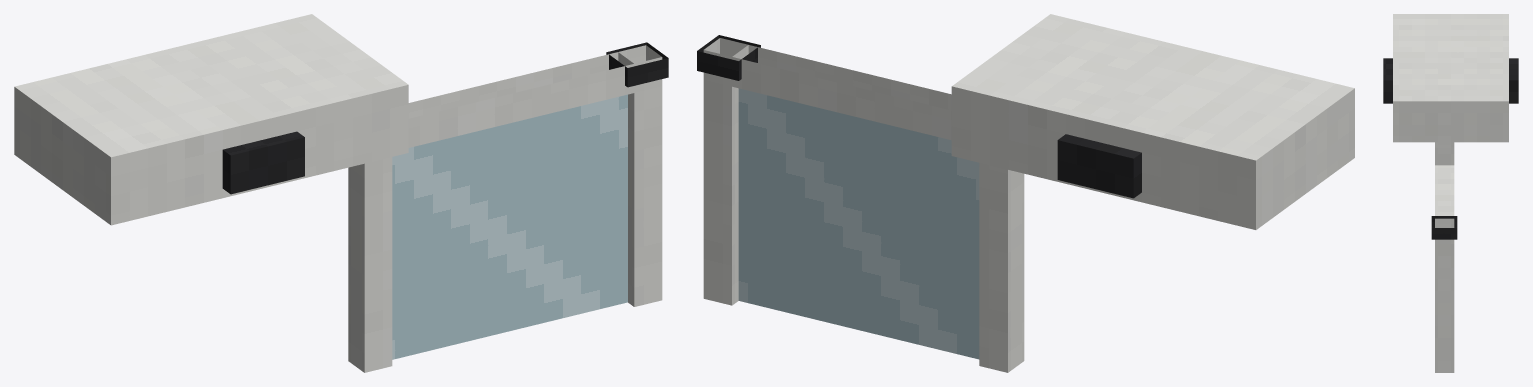
The model's file is auto_door_tele_slider_white_c0_upper_right_open.obj.
3 views of the same model, side by side, from view 1: azimuth 30°, elevation 25°; view 2: azimuth 150°, elevation 25°; view 3: azimuth 270°, elevation 25° (orthographic). The views are drawn at different scales.
Visible parts, largest first — view 1: auto_door_tele_slider_white_c0_upper_right_open; view 2: auto_door_tele_slider_white_c0_upper_right_open; view 3: auto_door_tele_slider_white_c0_upper_right_open.
Boxes of the visible parts, x1=… form: auto_door_tele_slider_white_c0_upper_right_open: x1=14, y1=14, x2=668, y2=372; auto_door_tele_slider_white_c0_upper_right_open: x1=697, y1=14, x2=1354, y2=372; auto_door_tele_slider_white_c0_upper_right_open: x1=1383, y1=14, x2=1518, y2=372.
Size of the model in its own units: 1.98 by 1 by 0.6562.
